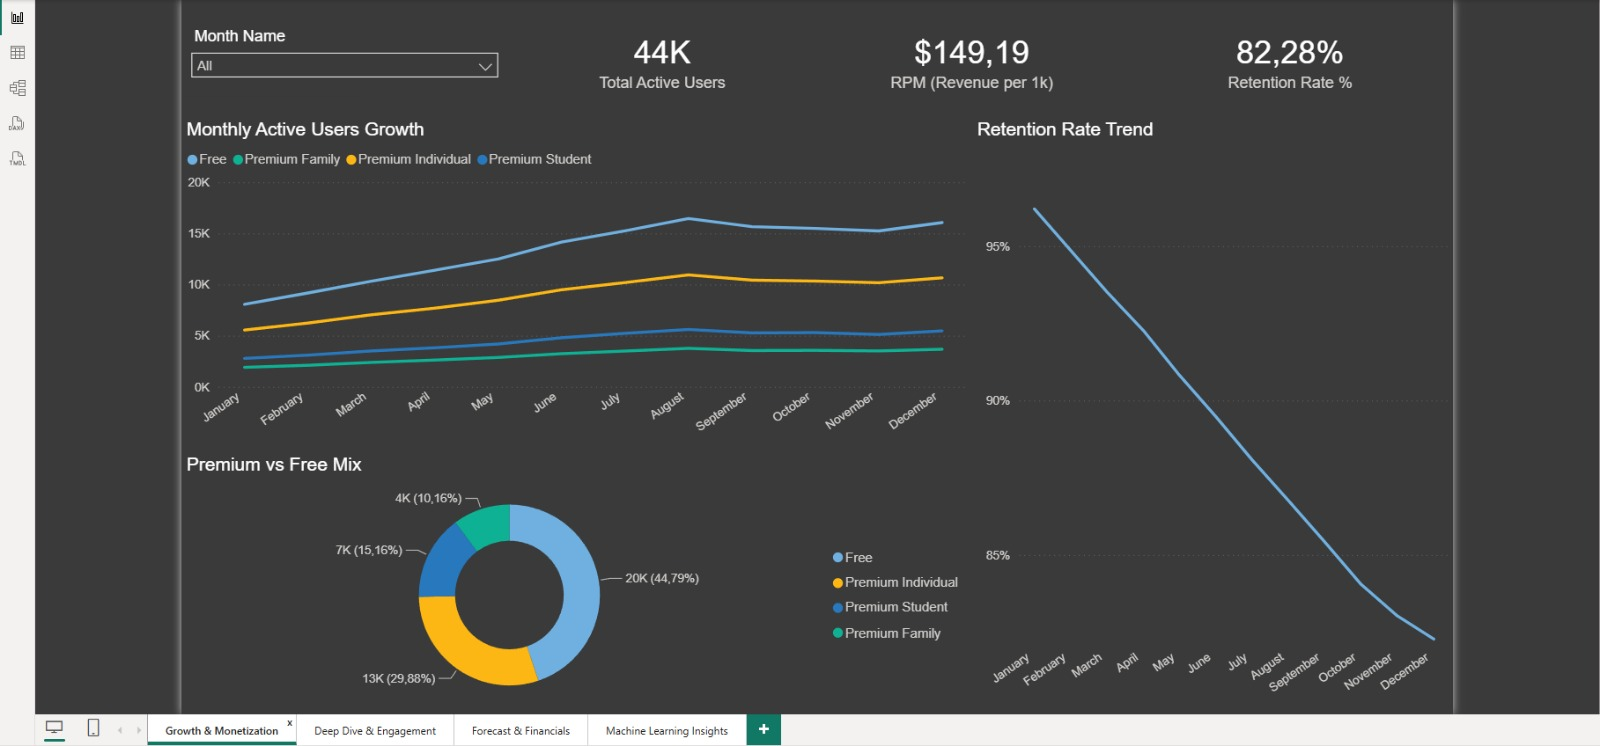

This screenshot's page, from the dashboard's own definition file:
{"tool":"powerbi","page":{"name":"Growth & Monetization","canvas":[1280,720],"ordinal":0},"visuals":[{"type":"slicer","fields":{"Values":["D_Time.Month Name"]},"box":[0,22.9,328.9,73.9],"z":0},{"type":"card","fields":{"Values":["F_Streams.Total Active Users"]},"box":[328.2,0,312.4,119.9],"z":1000},{"type":"card","fields":{"Values":["F_Streams.RPM (Revenue per 1k)"]},"box":[640.5,0,311.3,119.9],"z":2000},{"type":"card","fields":{"Values":["D_Users.Retention Rate %"]},"box":[951.8,0,330.3,119.9],"z":3000},{"type":"lineChart","title":"Monthly Active Users Growth","fields":{"Y":["F_Streams.Total Active Users"],"Series":["D_Users.subscription_plan"],"Category":["D_Time.Month Name"]},"box":[0,119.6,796.6,337.5],"z":4000},{"type":"donutChart","title":"Premium vs Free Mix","fields":{"Category":["D_Users.subscription_plan"],"Y":["F_Streams.Total Active Users"]},"box":[0,457.3,796.5,263.3],"z":5000},{"type":"lineChart","title":"Retention Rate Trend","fields":{"Category":["D_Time.Month Name"],"Y":["D_Users.Retention Rate %"]},"box":[796.6,119.6,484.4,600],"z":6000}]}

Visuals, with their boxes on the page's 1280x720 design canvas (x1, y1, x2, y2). These are canvas units, not pixel positions in the 1600x746 screenshot, which may show the page scaled, cropped or inside an application window:
slicer - D_Time.Month Name: BBox(0, 23, 329, 97)
card - F_Streams.Total Active Users: BBox(328, 0, 641, 120)
card - F_Streams.RPM (Revenue per 1k): BBox(640, 0, 952, 120)
card - D_Users.Retention Rate %: BBox(952, 0, 1282, 120)
"Monthly Active Users Growth" lineChart: BBox(0, 120, 797, 457)
"Premium vs Free Mix" donutChart: BBox(0, 457, 796, 721)
"Retention Rate Trend" lineChart: BBox(797, 120, 1281, 720)
